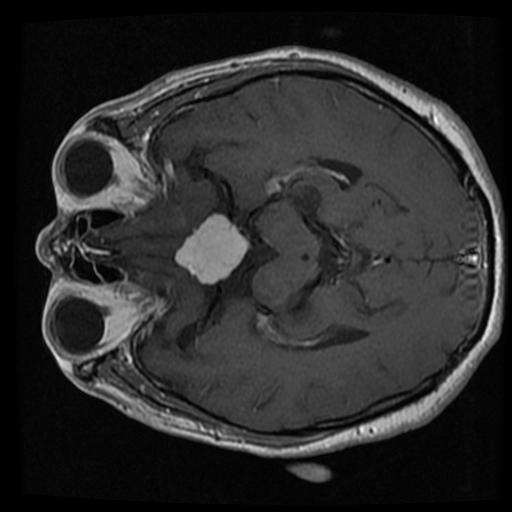meningioma: (173, 213, 248, 285)
